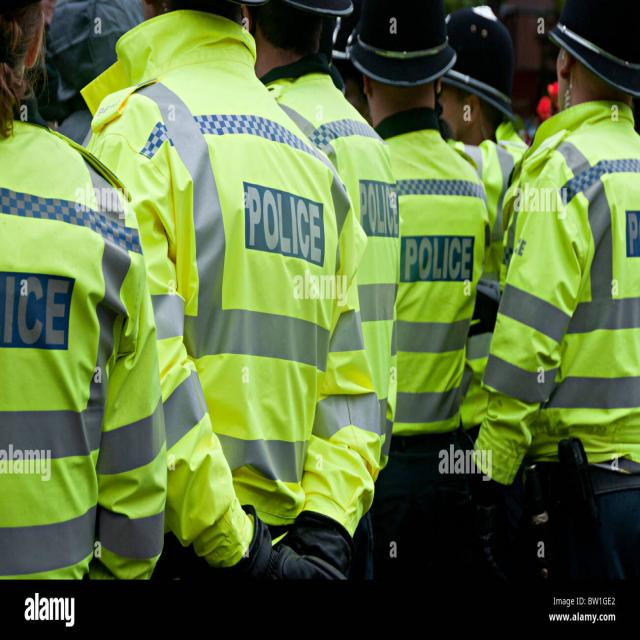Reflective-Jacket: (77, 22, 401, 558), (0, 98, 215, 572), (487, 113, 636, 474), (380, 122, 503, 443)
Safety-Helmet: (347, 0, 459, 86), (545, 0, 639, 95)
